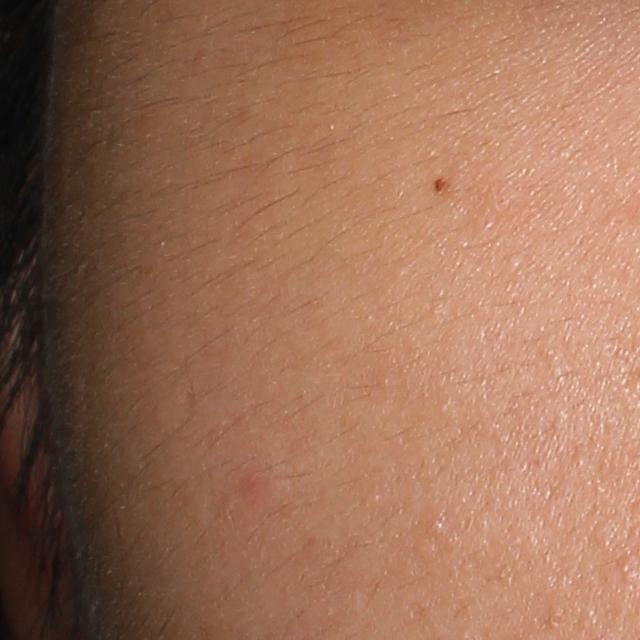comedo: (424, 515, 449, 536)
nevus: (429, 173, 453, 199)
